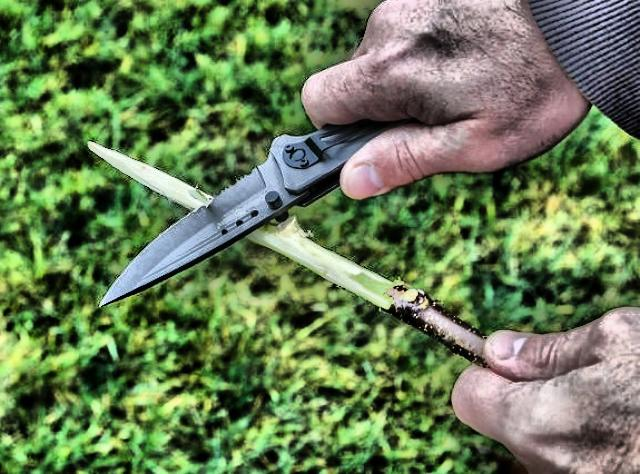knife: (82, 46, 438, 320)
